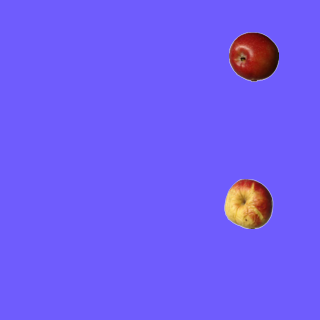Apple Braeburn: (228, 31, 278, 81)
Apple Red Yellow 1: (223, 178, 273, 228)
